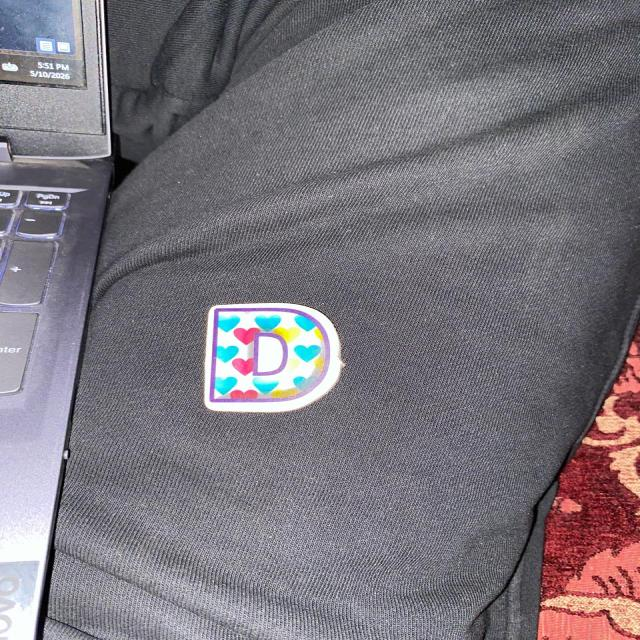D: (203, 303, 341, 414)
